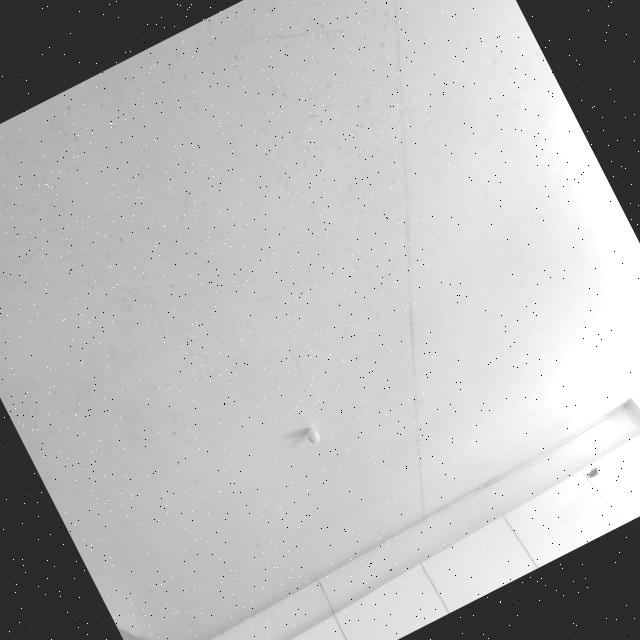ping-pong-ball: (304, 424, 324, 446)
